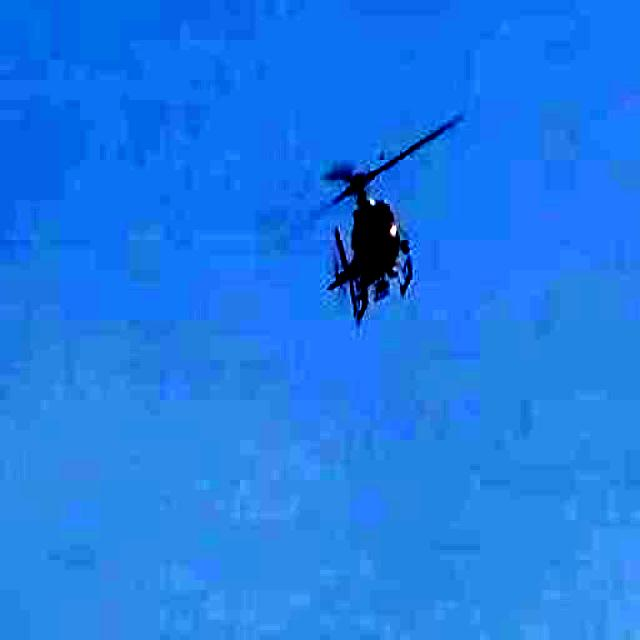drone: (235, 82, 498, 336)
